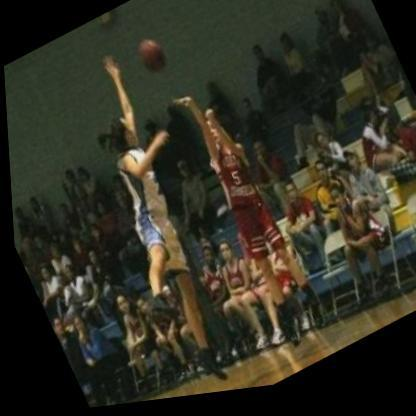basketball: (126, 30, 172, 86)
